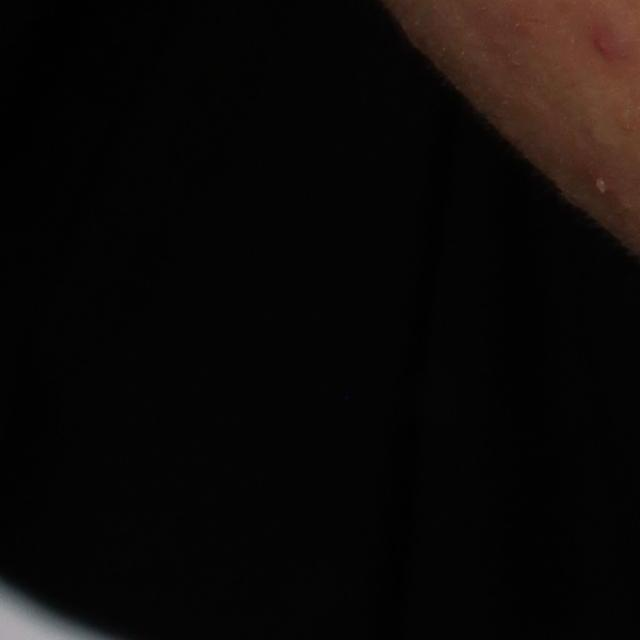papule: (594, 35, 617, 62)
